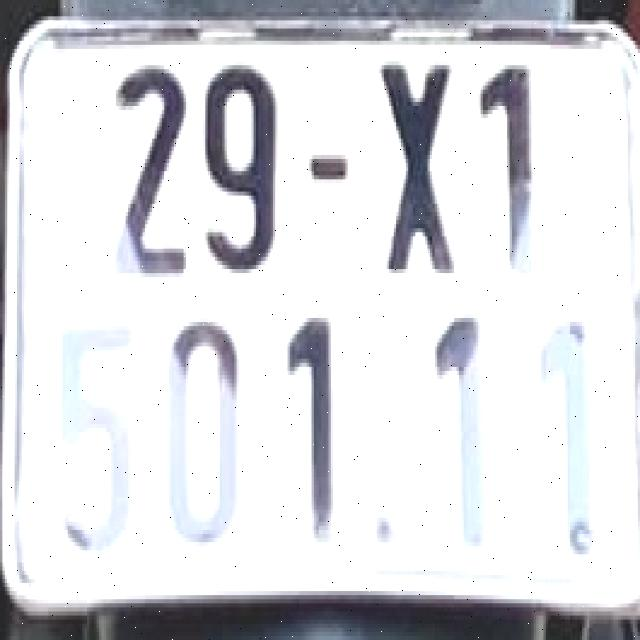0: (160, 308, 246, 548)
1: (534, 306, 601, 554), (476, 53, 548, 281), (281, 304, 349, 544), (431, 306, 496, 550)
2: (106, 53, 191, 281)
5: (52, 304, 141, 556)
9: (199, 53, 284, 277)
X: (377, 55, 459, 275)
